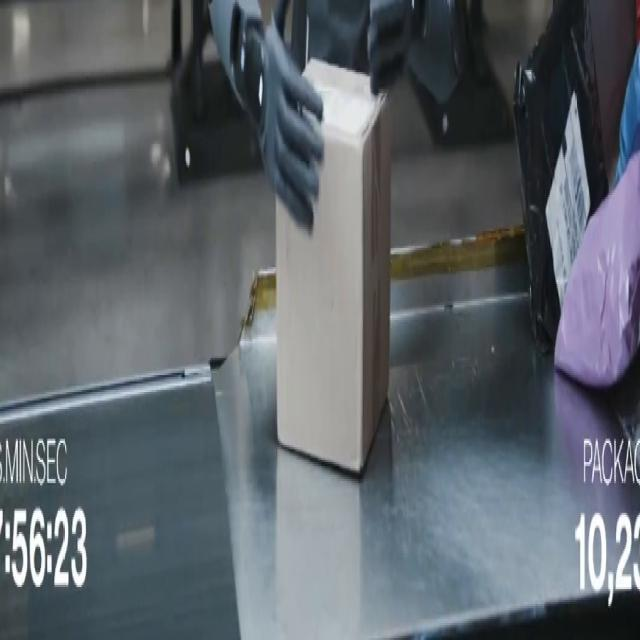package: (277, 60, 390, 474), (514, 0, 608, 353), (555, 153, 639, 387), (617, 47, 639, 182)
